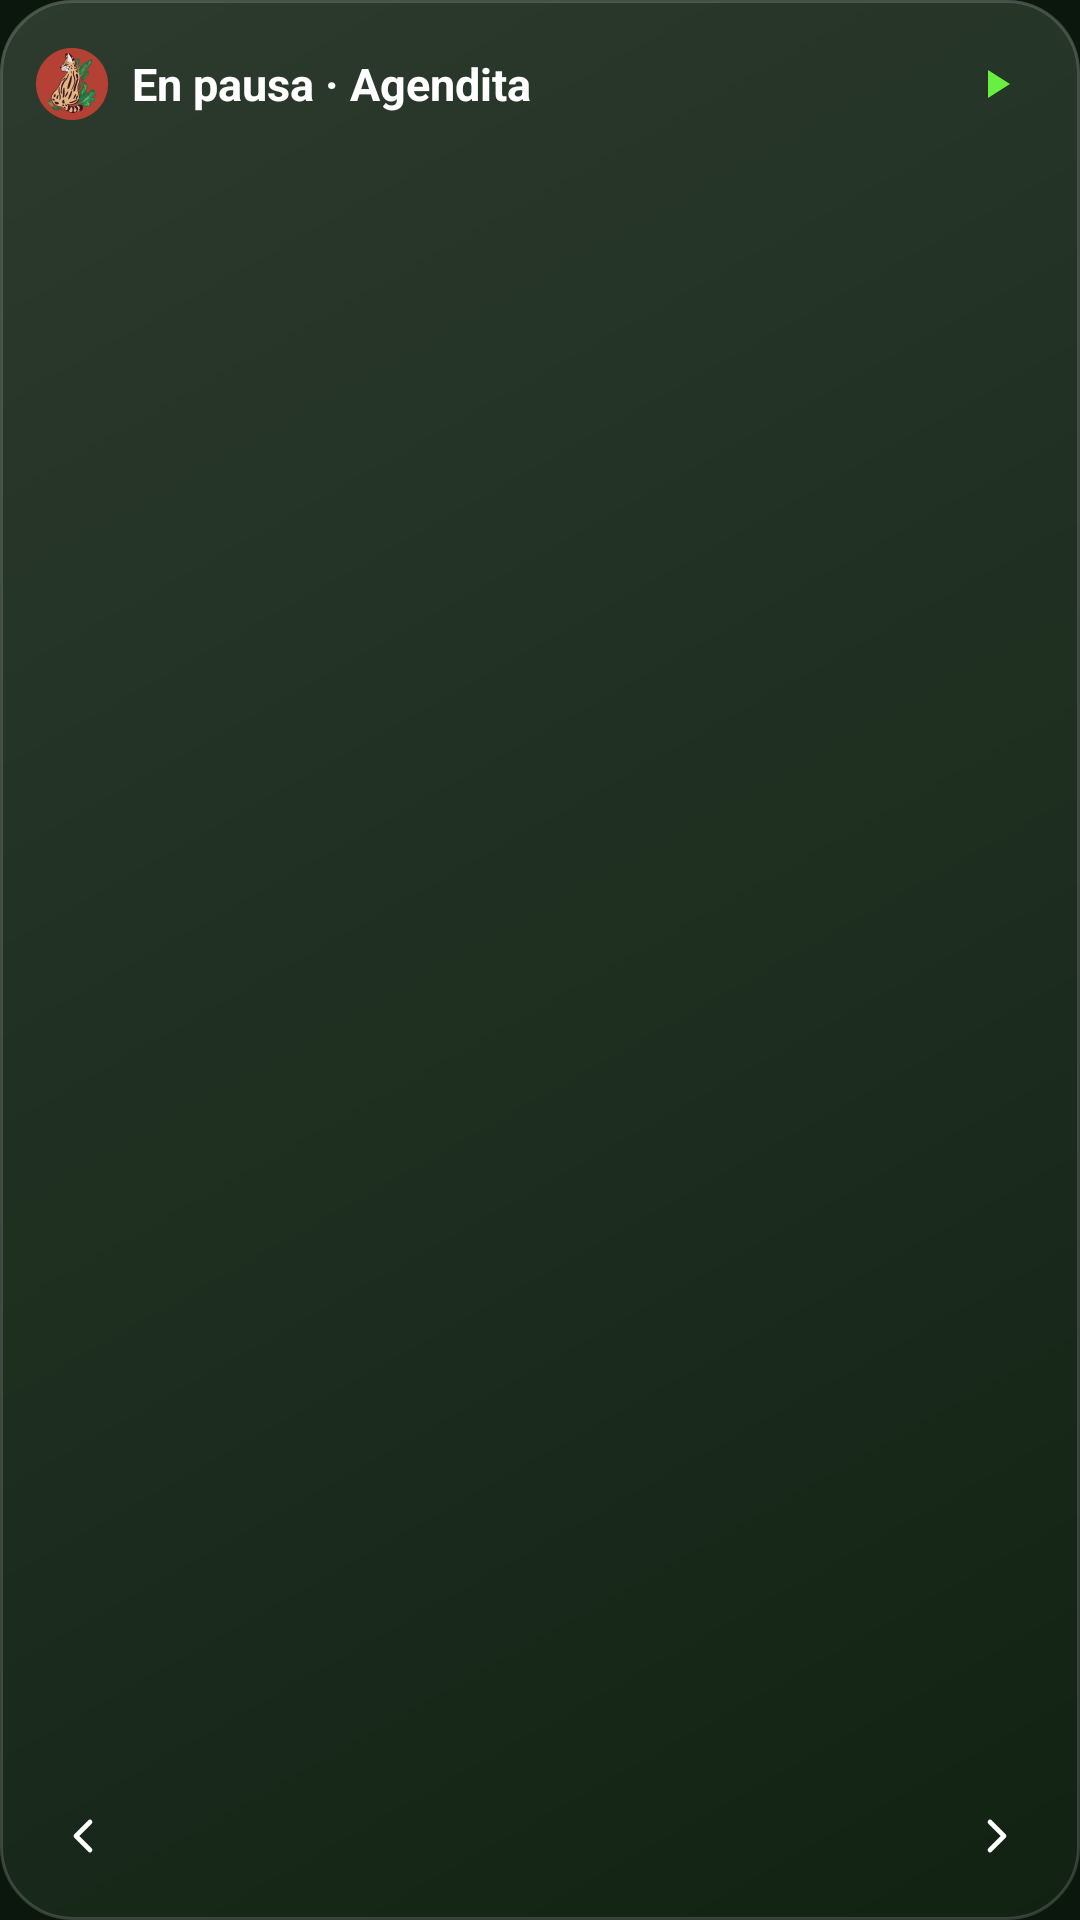

Where icons sit on this 1080w x 1920h app screen, as bbox=(x1, y1, x2, y2):
Página anterior: bbox=(73, 1819, 93, 1853)
Página siguiente: bbox=(987, 1819, 1007, 1853)
Seguir: bbox=(988, 70, 1010, 98)
